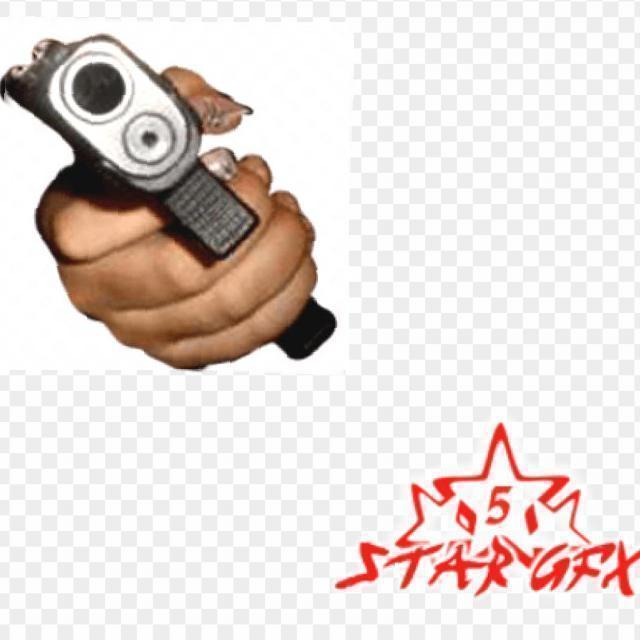Handgun: (0, 19, 351, 372)
